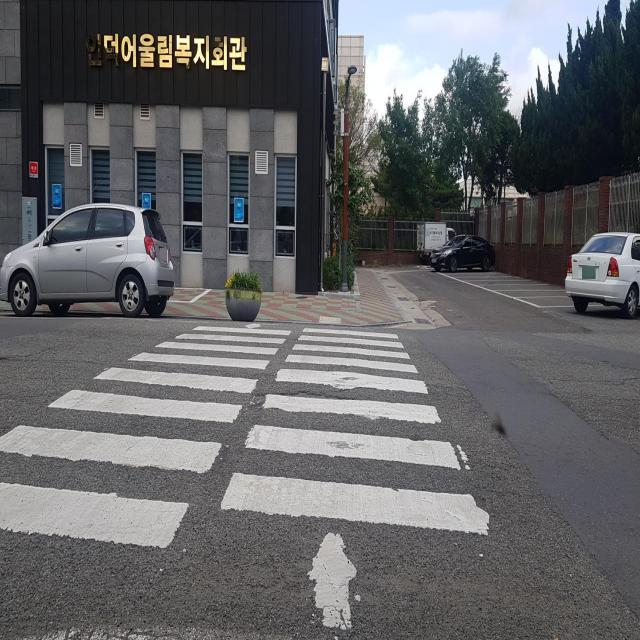횡단보도: (0, 317, 493, 632)
